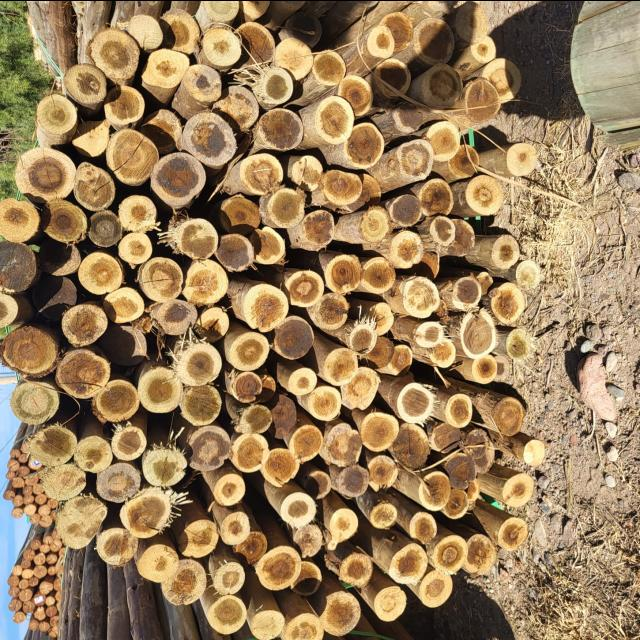package: (1, 11, 544, 640), (3, 432, 70, 528), (8, 532, 66, 640)
